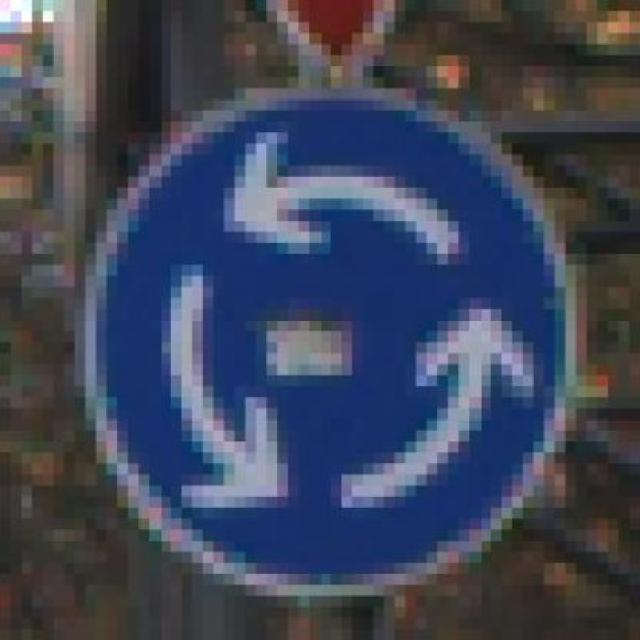Round-About: (31, 77, 598, 618)
